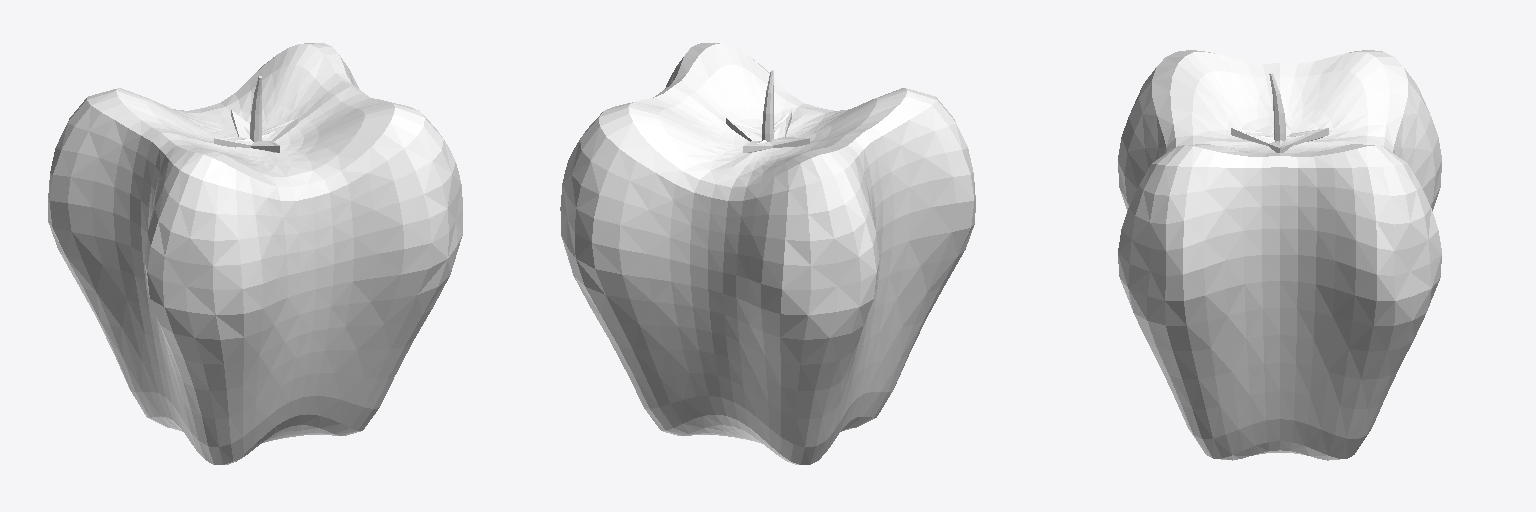
The model's file is PERCHIC.obj.
3 renders of one model, left to right at view 1: azimuth 30°, elevation 25°; view 2: azimuth 150°, elevation 25°; view 3: azimuth 270°, elevation 25°, orthographic.
Visible parts, largest first — view 1: Cylinder001; view 2: Cylinder001; view 3: Cylinder001.
Part boxes in pixels (left/top/right/bottom): Cylinder001: left=48, top=43, right=462, bottom=464; Cylinder001: left=560, top=43, right=975, bottom=464; Cylinder001: left=1118, top=50, right=1441, bottom=460.
Size of the model in its own units: 52.63 by 58.13 by 46.91.